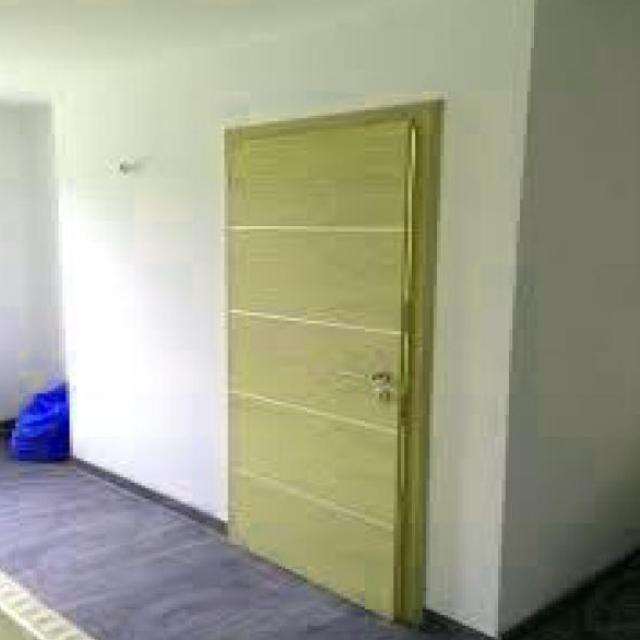door: (221, 101, 436, 626)
